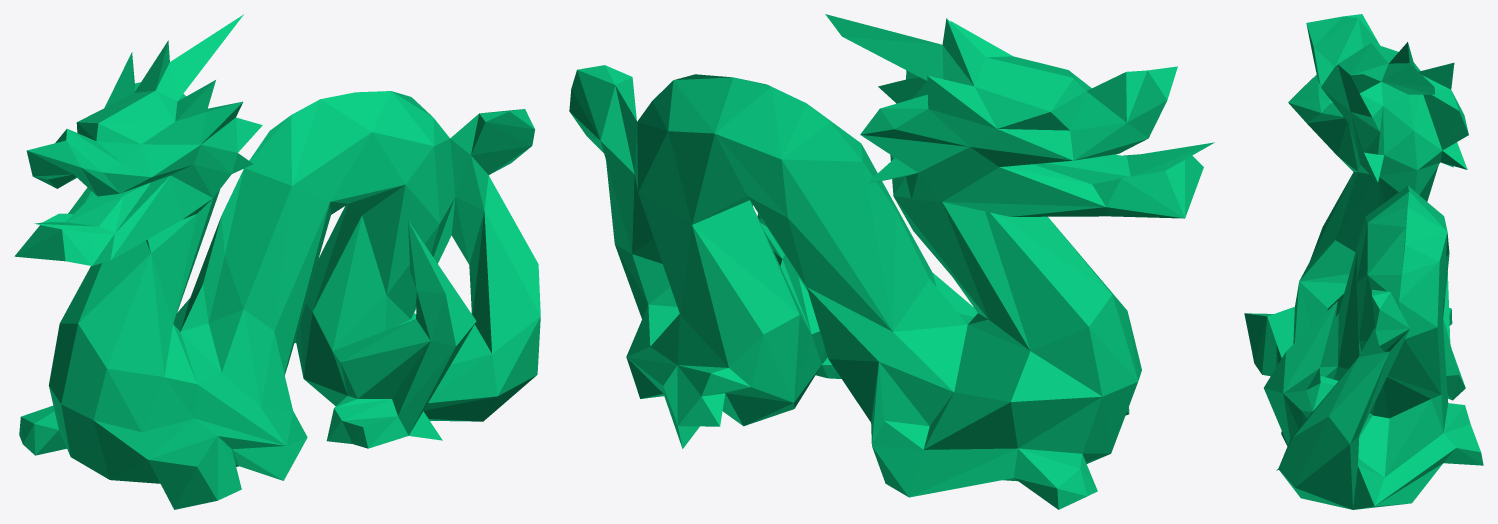
File: dragon.obj
3 views of the same model, side by side, from view 1: azimuth 30°, elevation 25°; view 2: azimuth 150°, elevation 25°; view 3: azimuth 270°, elevation 25° (orthographic). The views are drawn at different scales.
Parts seen in each view (by area): view 1: dragon; view 2: dragon; view 3: dragon.
Boxes of the visible parts, bbox=[...] form: dragon: bbox=[14, 14, 540, 509]; dragon: bbox=[569, 14, 1214, 509]; dragon: bbox=[1244, 14, 1483, 509].
Size of the model in its own units: 2.54 by 1.82 by 1.13.
